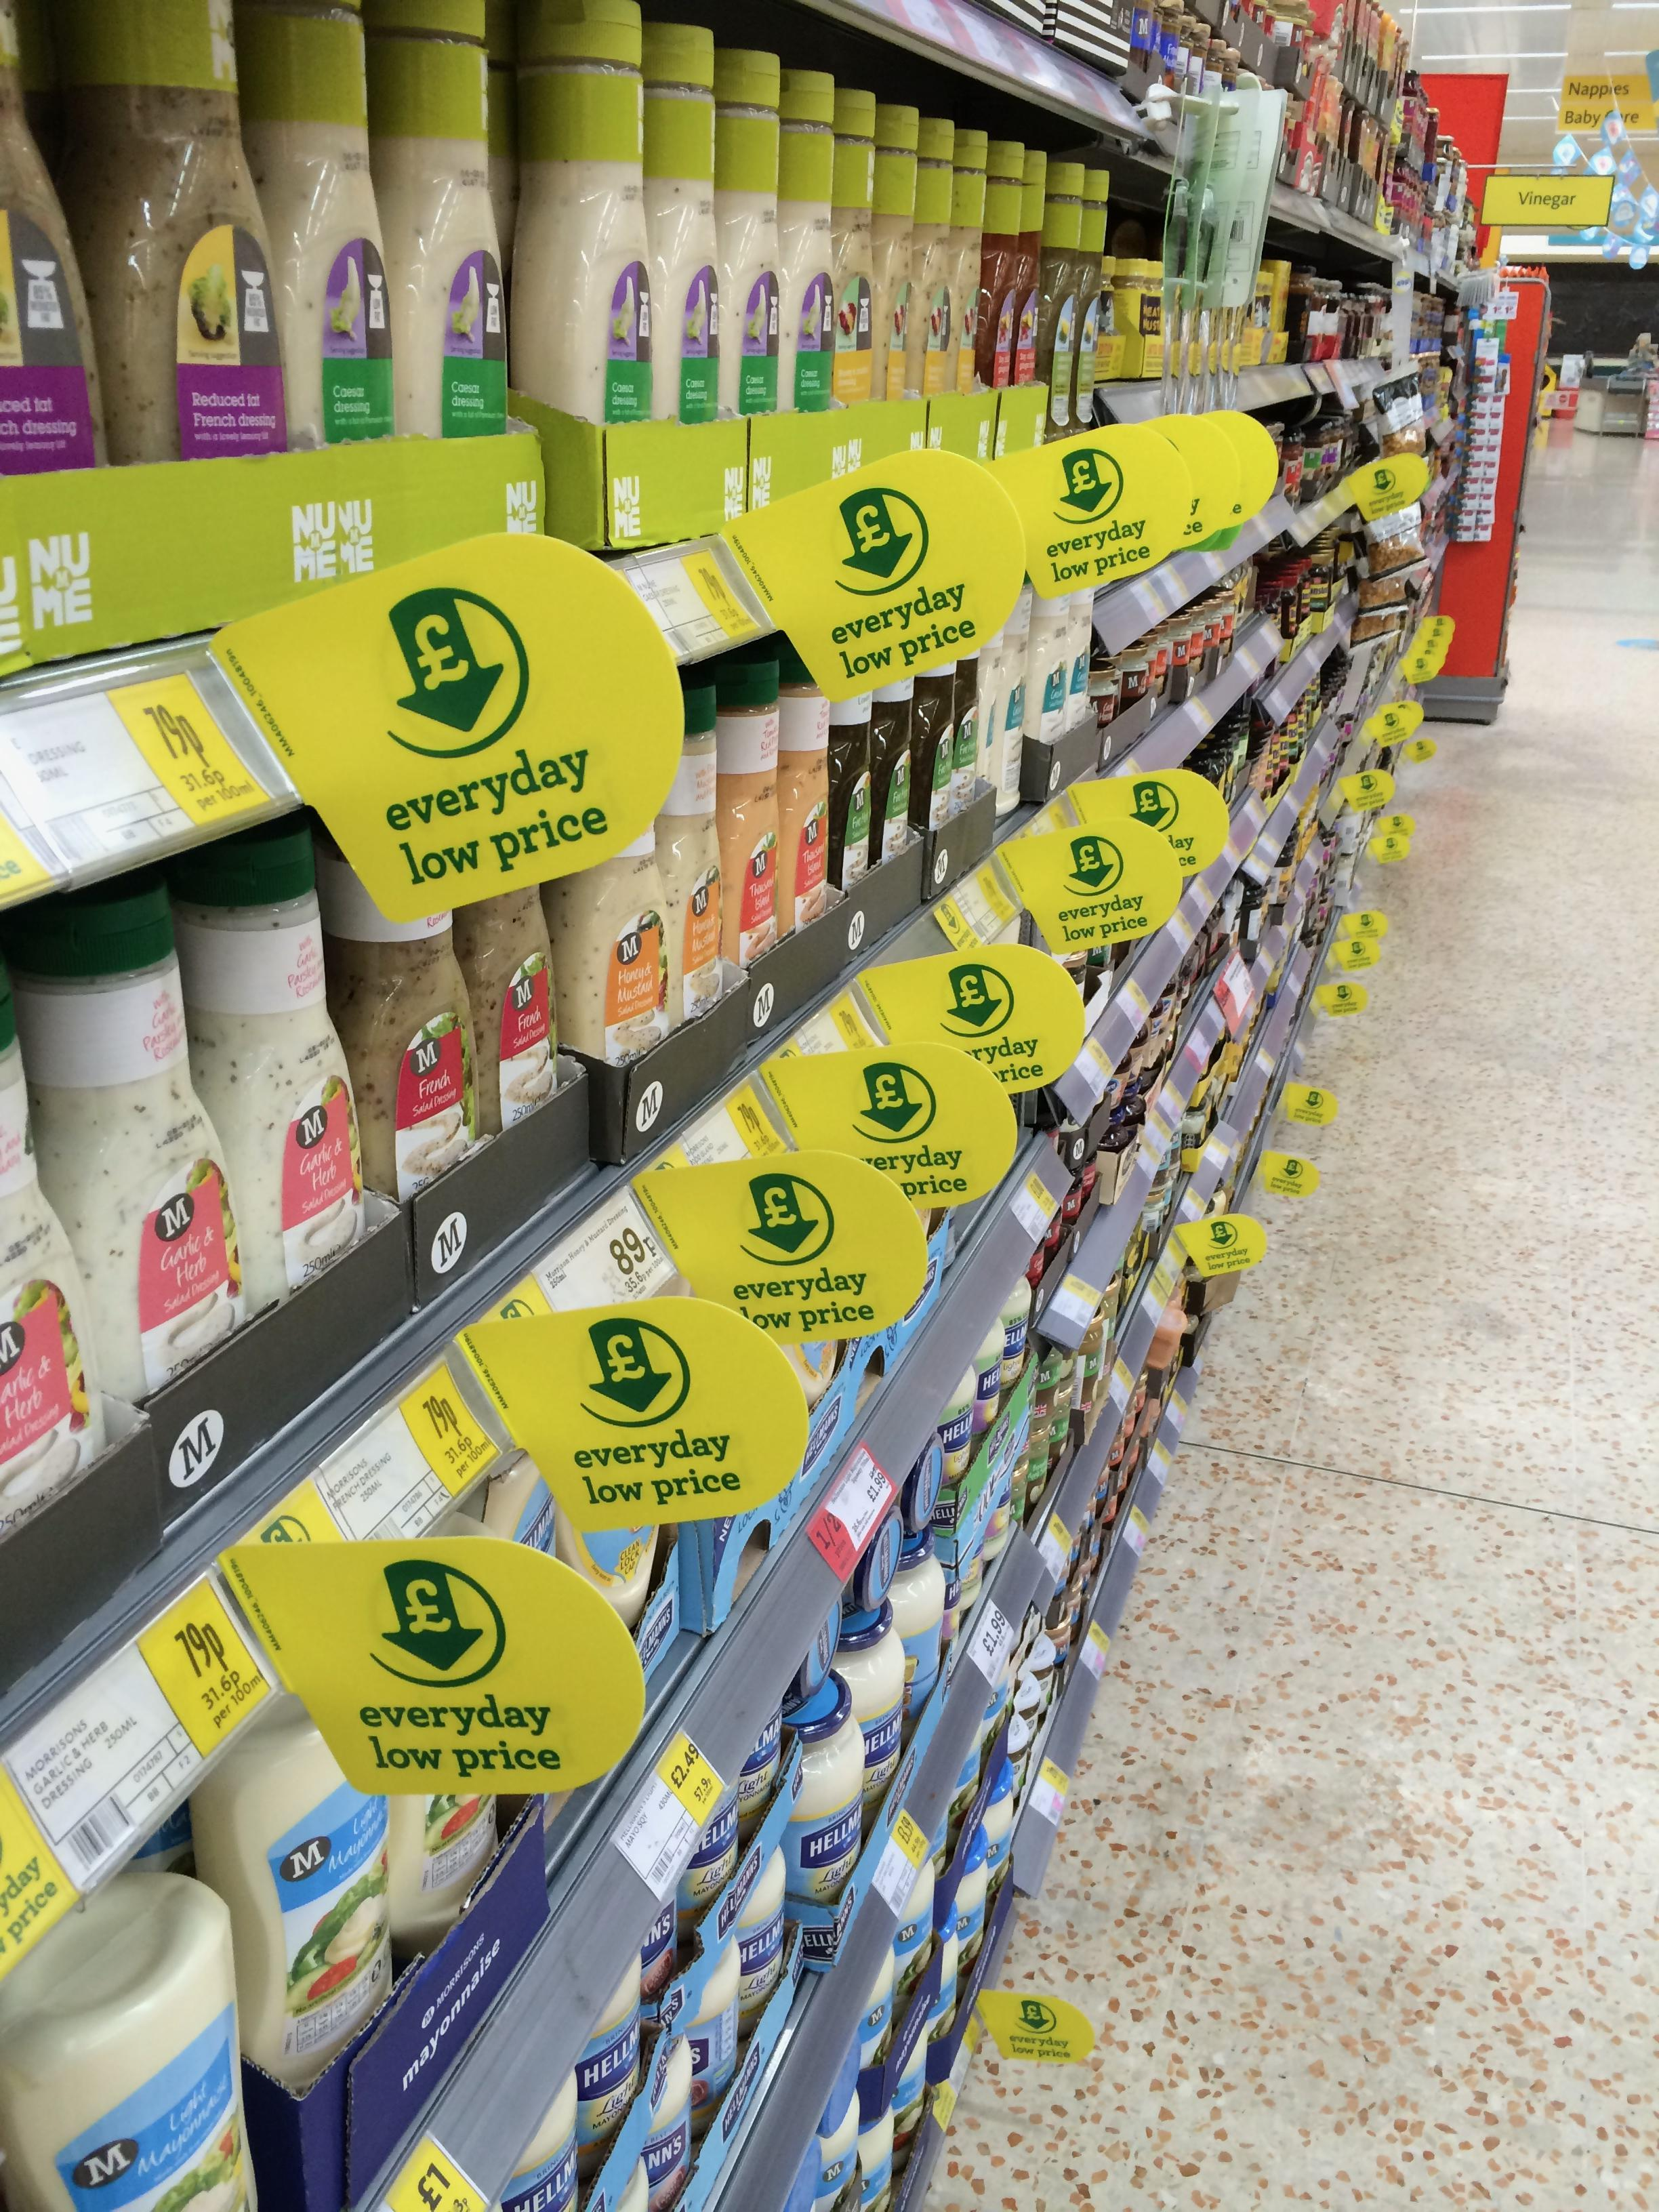dressing: (7, 873, 246, 1402), (169, 820, 362, 1313), (0, 1871, 253, 2212), (192, 1698, 392, 2088), (0, 970, 105, 1534), (317, 841, 477, 1200), (0, 9, 105, 474), (542, 829, 678, 1064), (643, 23, 721, 421), (451, 887, 556, 1136), (653, 672, 721, 1022), (714, 49, 779, 415), (777, 70, 835, 411), (716, 657, 779, 967), (782, 1672, 863, 1904), (389, 1794, 495, 1954), (779, 637, 829, 934), (831, 87, 878, 404), (836, 1601, 904, 1817), (904, 117, 957, 397), (871, 105, 918, 399), (575, 1959, 638, 2177), (1035, 162, 1082, 435), (974, 141, 1025, 388), (556, 1515, 659, 1627), (497, 2071, 577, 2212), (687, 1935, 739, 2134), (634, 2034, 692, 2212), (950, 129, 988, 392), (1070, 167, 1108, 428), (992, 582, 1033, 817), (737, 1848, 784, 2033), (828, 693, 871, 892), (870, 678, 915, 866), (1012, 148, 1047, 385), (1021, 594, 1070, 749), (910, 664, 955, 829), (950, 655, 978, 813)
